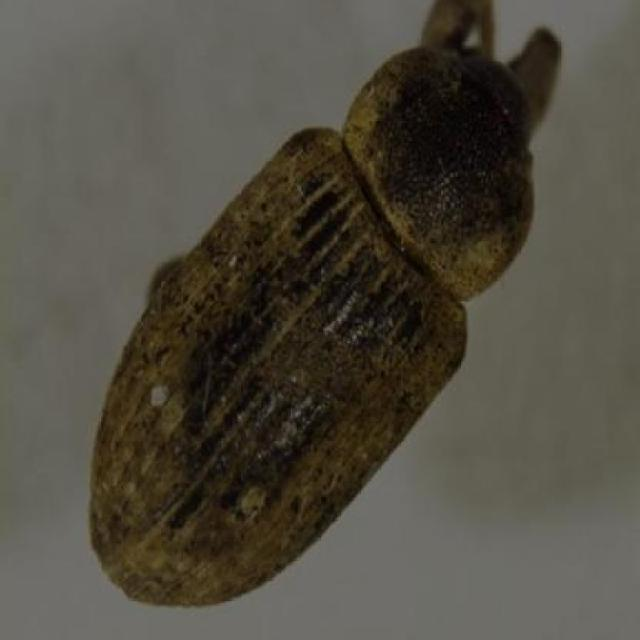rice-bug: (87, 0, 565, 608)
